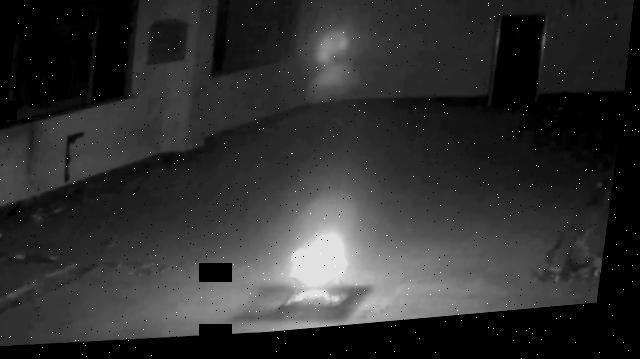fire: (296, 235, 357, 282)
smoke: (304, 27, 361, 110)
